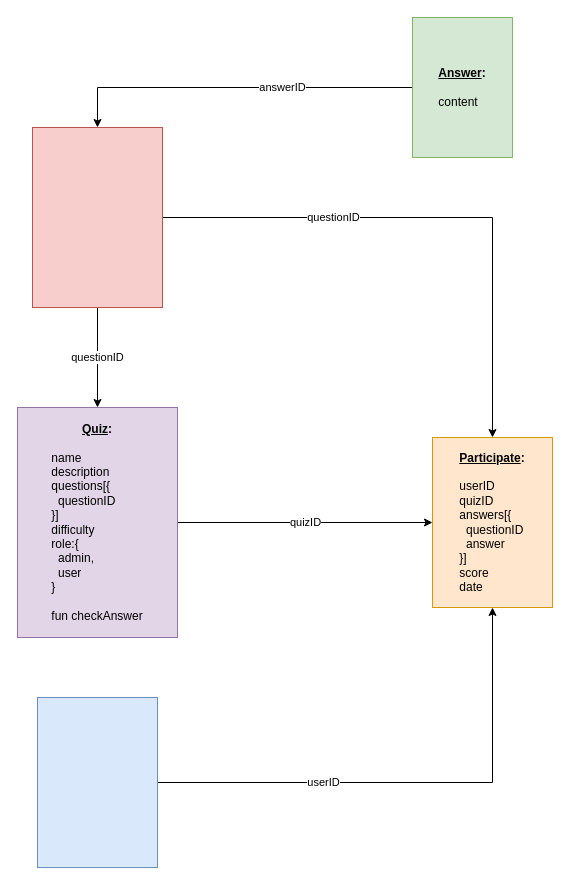
Image size: 570x885. Some labels were removed from this diagram. The centre of each missing label's shape, as x and y in pixels:
"Question : content options[] answer{ answerID }" belongs at (x=97, y=217).
"User : name email password role:{ admin, user }" belongs at (x=97, y=782).
